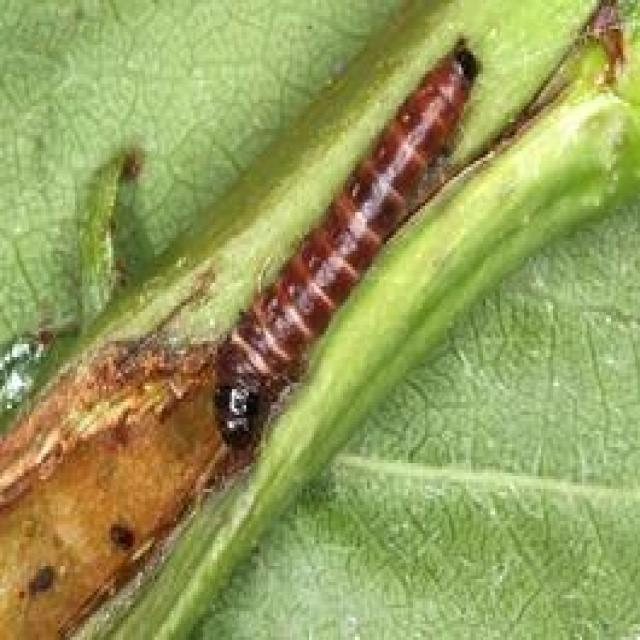peach borer: (209, 35, 489, 450)
